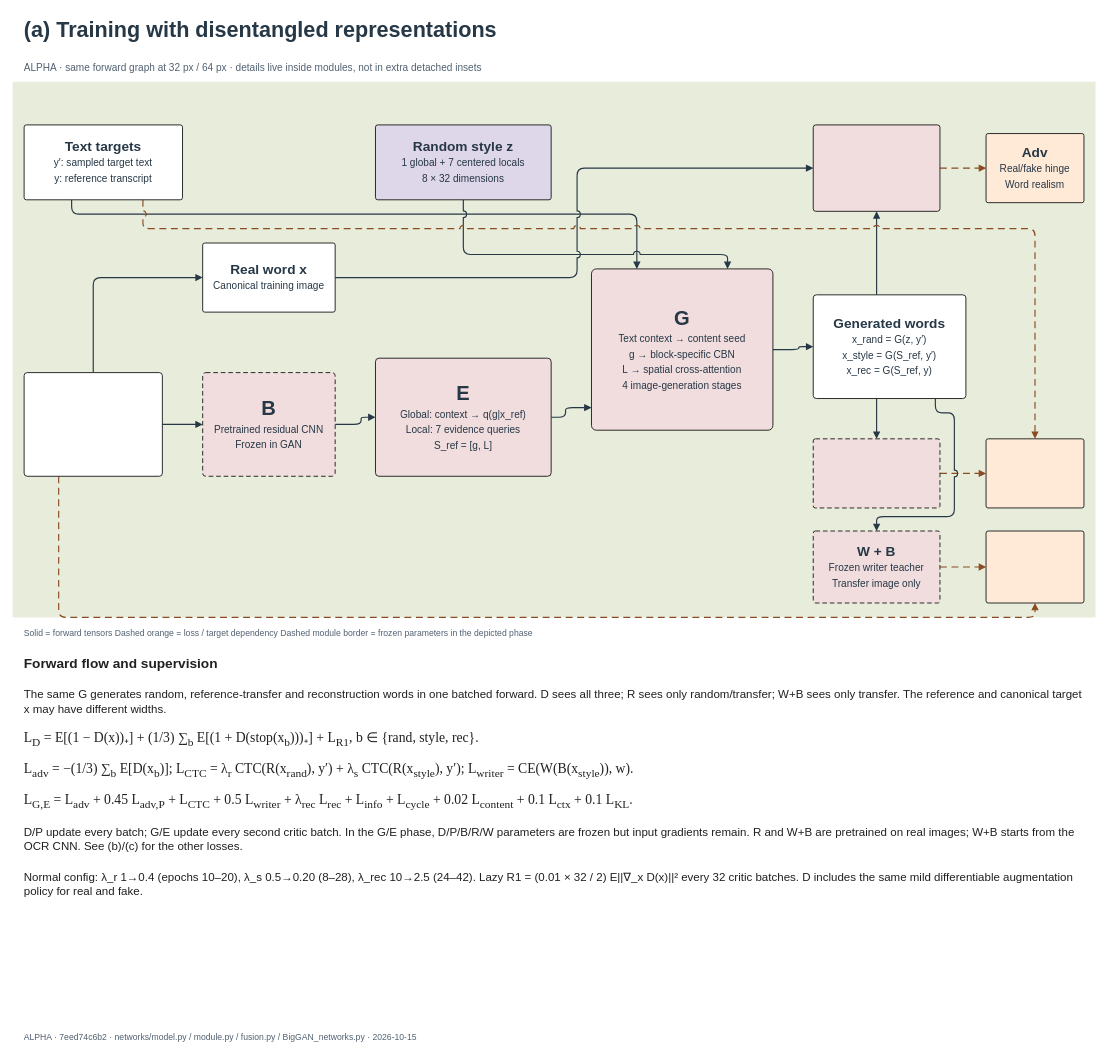
Some shapes in this 1107 by 1058 pixel diagram are drawn without their labels. The centre of each missing label's shape, as x and y in pixels:
CE Writer CE vs writer w: point (1034, 566)
CTC Prediction vs y′ No CTC on x_rec: point (1034, 473)
D DiffAug + whole-word critic All three fake groups: point (876, 167)
R CNN + BiLSTM rand + style only: point (876, 473)
Real sample Reference x_ref; target x Transcript y; writer ID w: point (93, 424)
